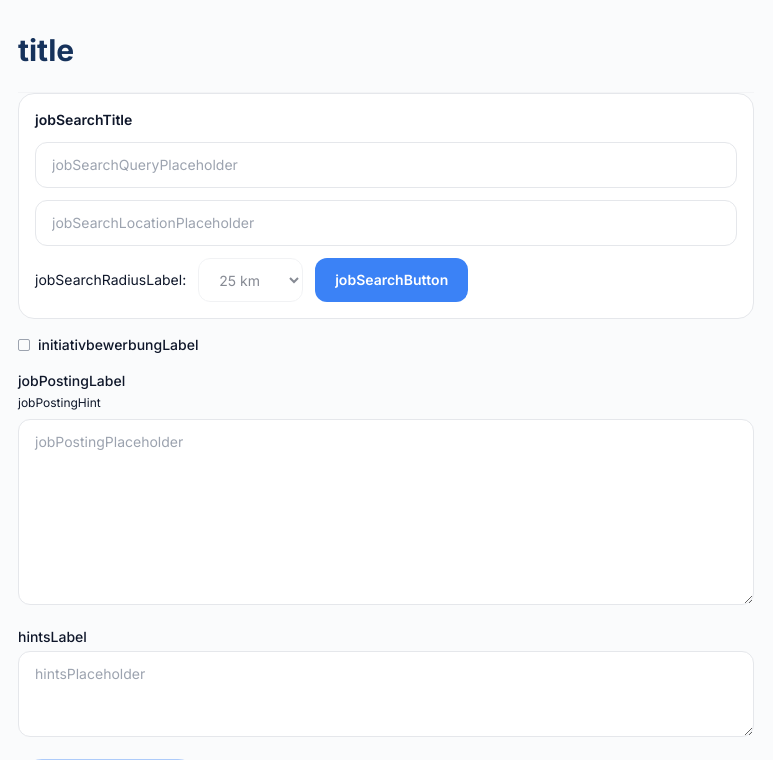
it: GenerateForm › Generierungsflow › zeigt Fehlermeldung wenn API fehlschlägt
Type "Stelle" into the text box labelled "jobPostingLabel".
click(386, 512); type("Stelle")  # box 18,419 -> 754,605
(page scrolled)
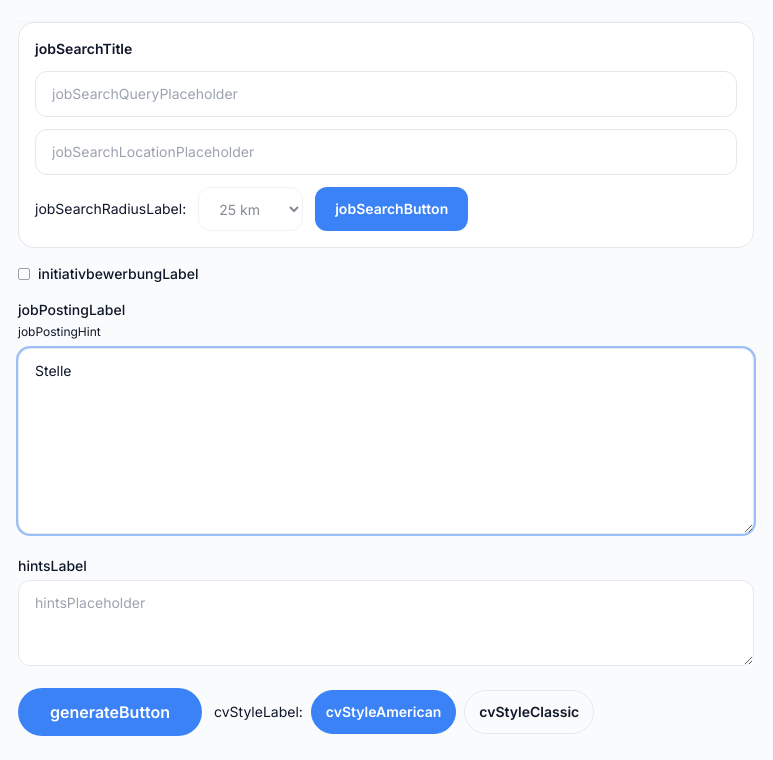
Click the button "generateButton".
click(110, 712)  # box 18,688 -> 202,736
(page scrolled)
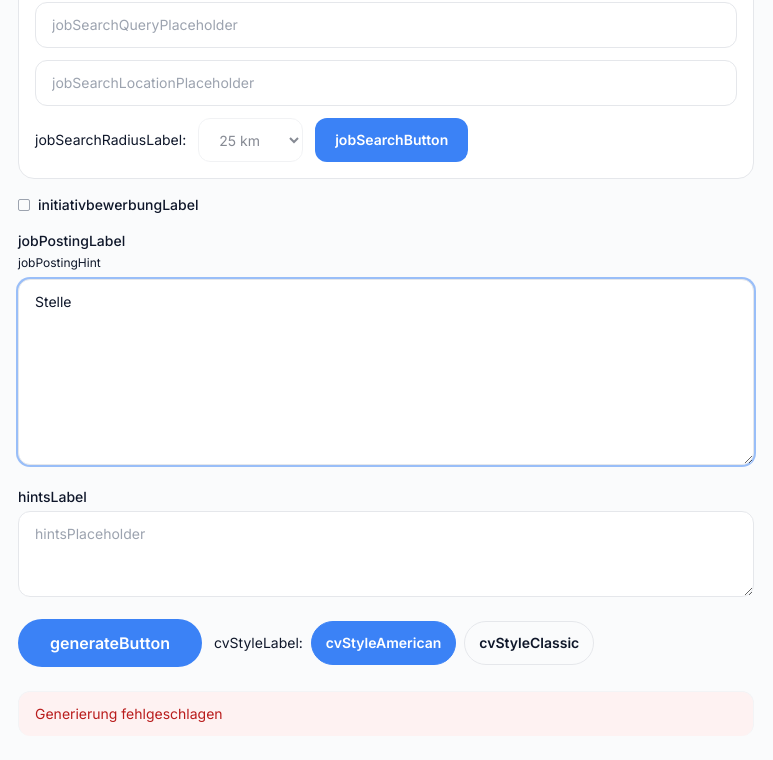
Result: the message "Generierung fehlgeschlagen" is shown at 18,691 -> 754,736
